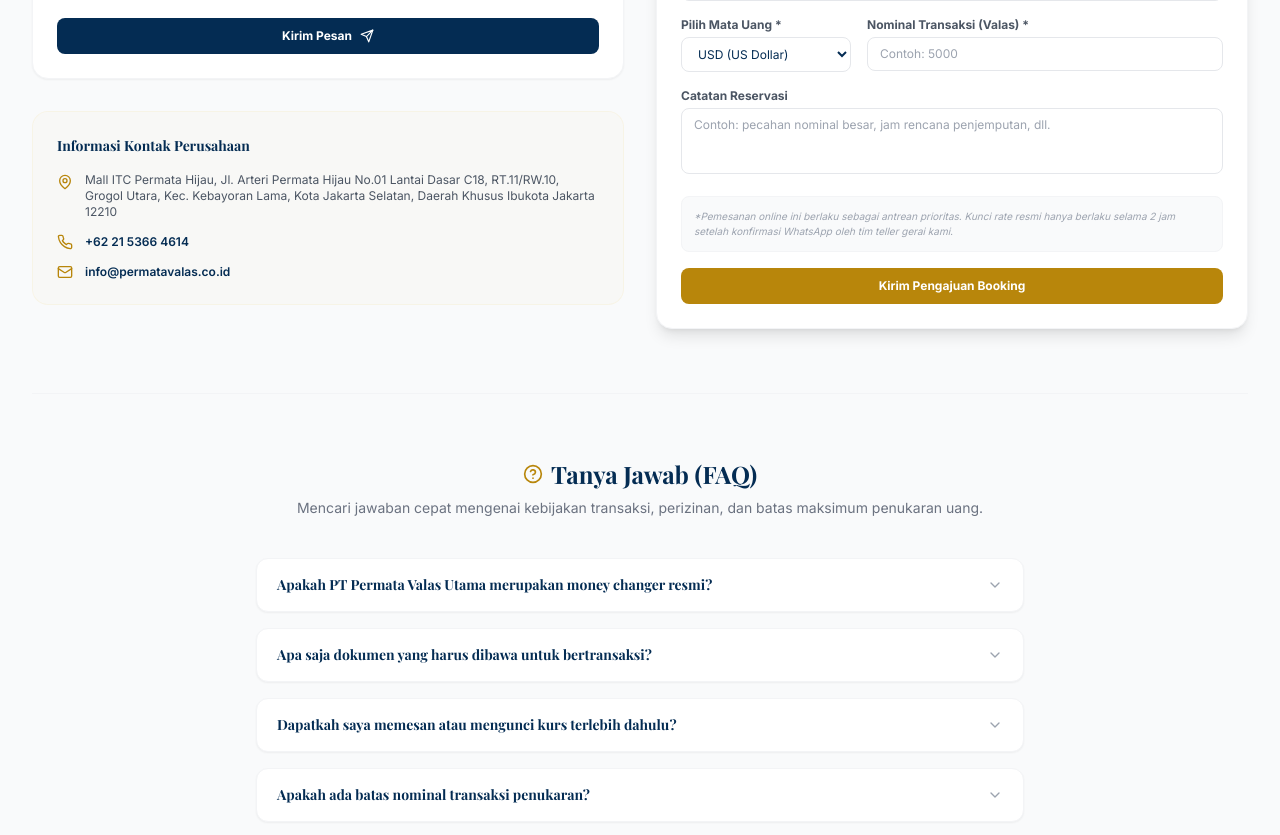
Kontak Page › should toggle FAQ questions
The width and height of the screenshot is (1280, 835).
(page scrolled)
Click the button "Apakah PT Permata Valas Utama merupakan money changer resmi?". click: (640, 585)
box: [257, 559, 1023, 611]
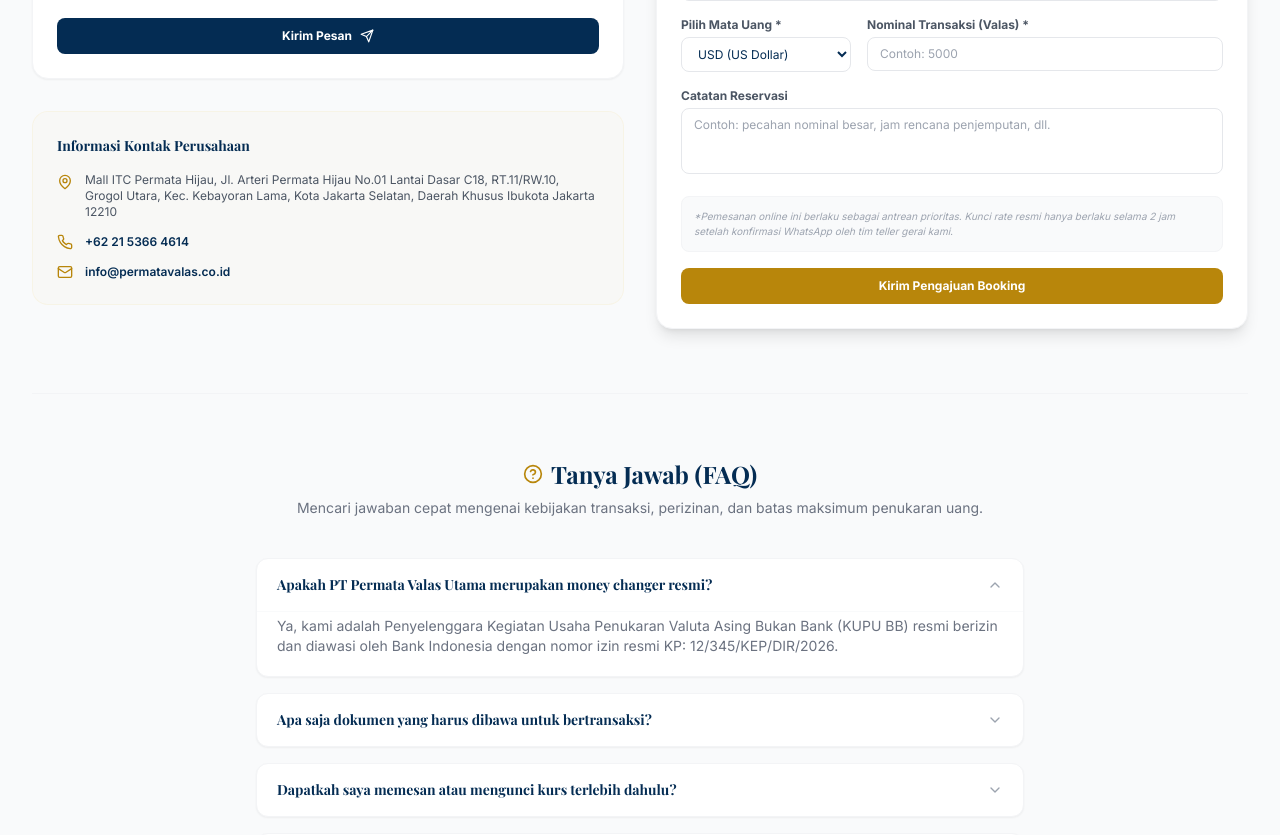
Check: the text "Ya, kami adalah Penyelenggara Kegiatan Usaha Penukaran Valuta Asing Bukan Bank (KUPU BB) resmi berizin dan diawasi oleh " is shown, box [277, 617, 998, 654]
Click the button "Apakah PT Permata Valas Utama merupakan money changer resmi?". click: (640, 585)
box: [257, 559, 1023, 611]
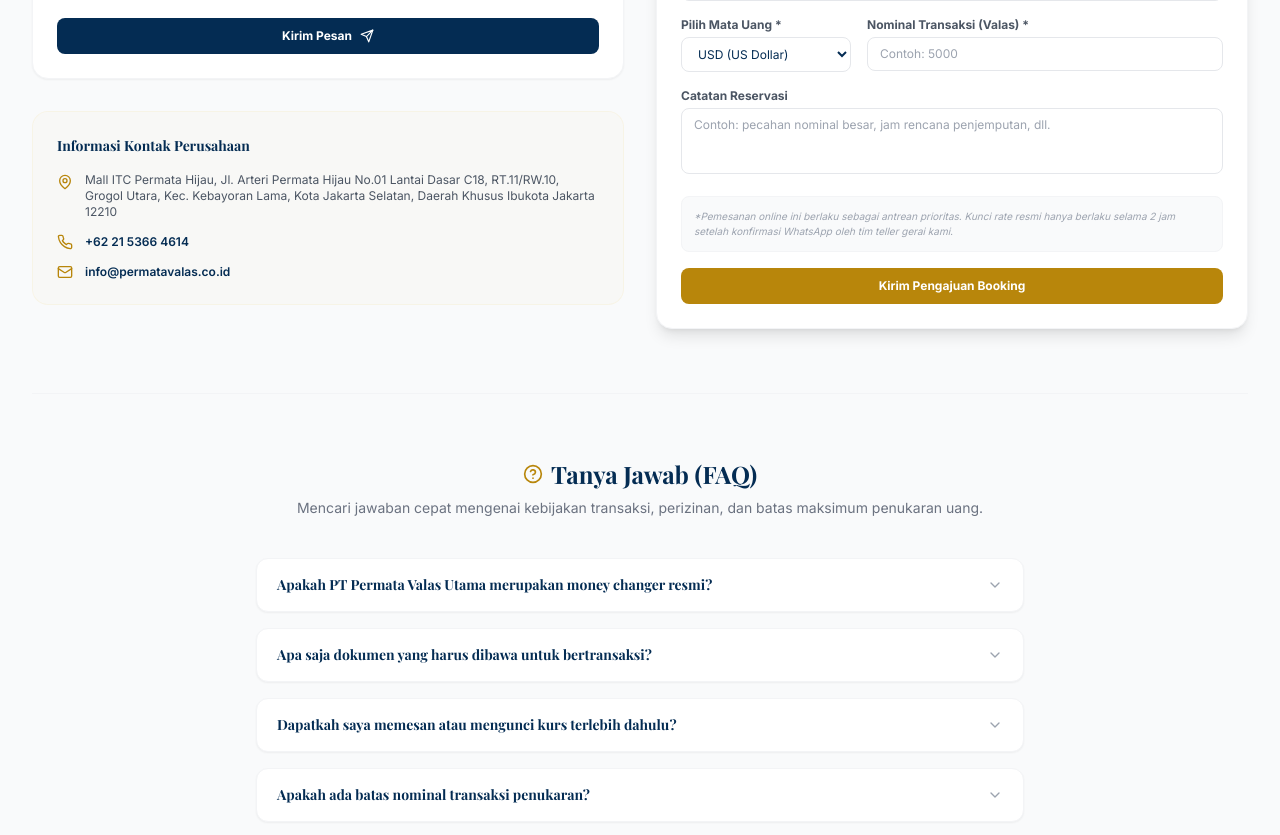
Check: the text "Ya, kami adalah Penyelenggara Kegiatan Usaha Penukaran Valuta Asing Bukan Bank (KUPU BB) resmi berizin dan diawasi oleh " is gone
